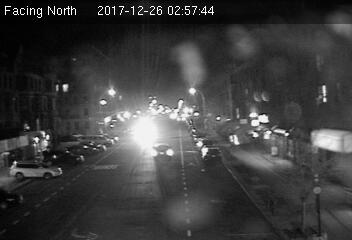car: (151, 143, 173, 157)
